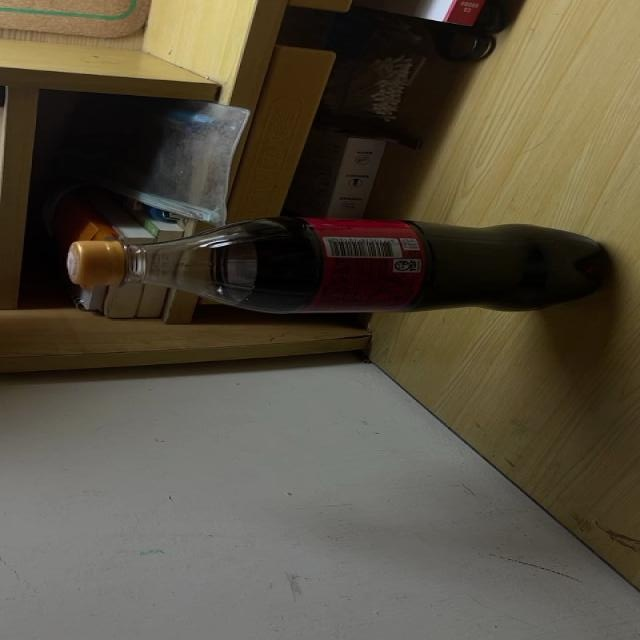Coca-Cola: (64, 218, 609, 312)
